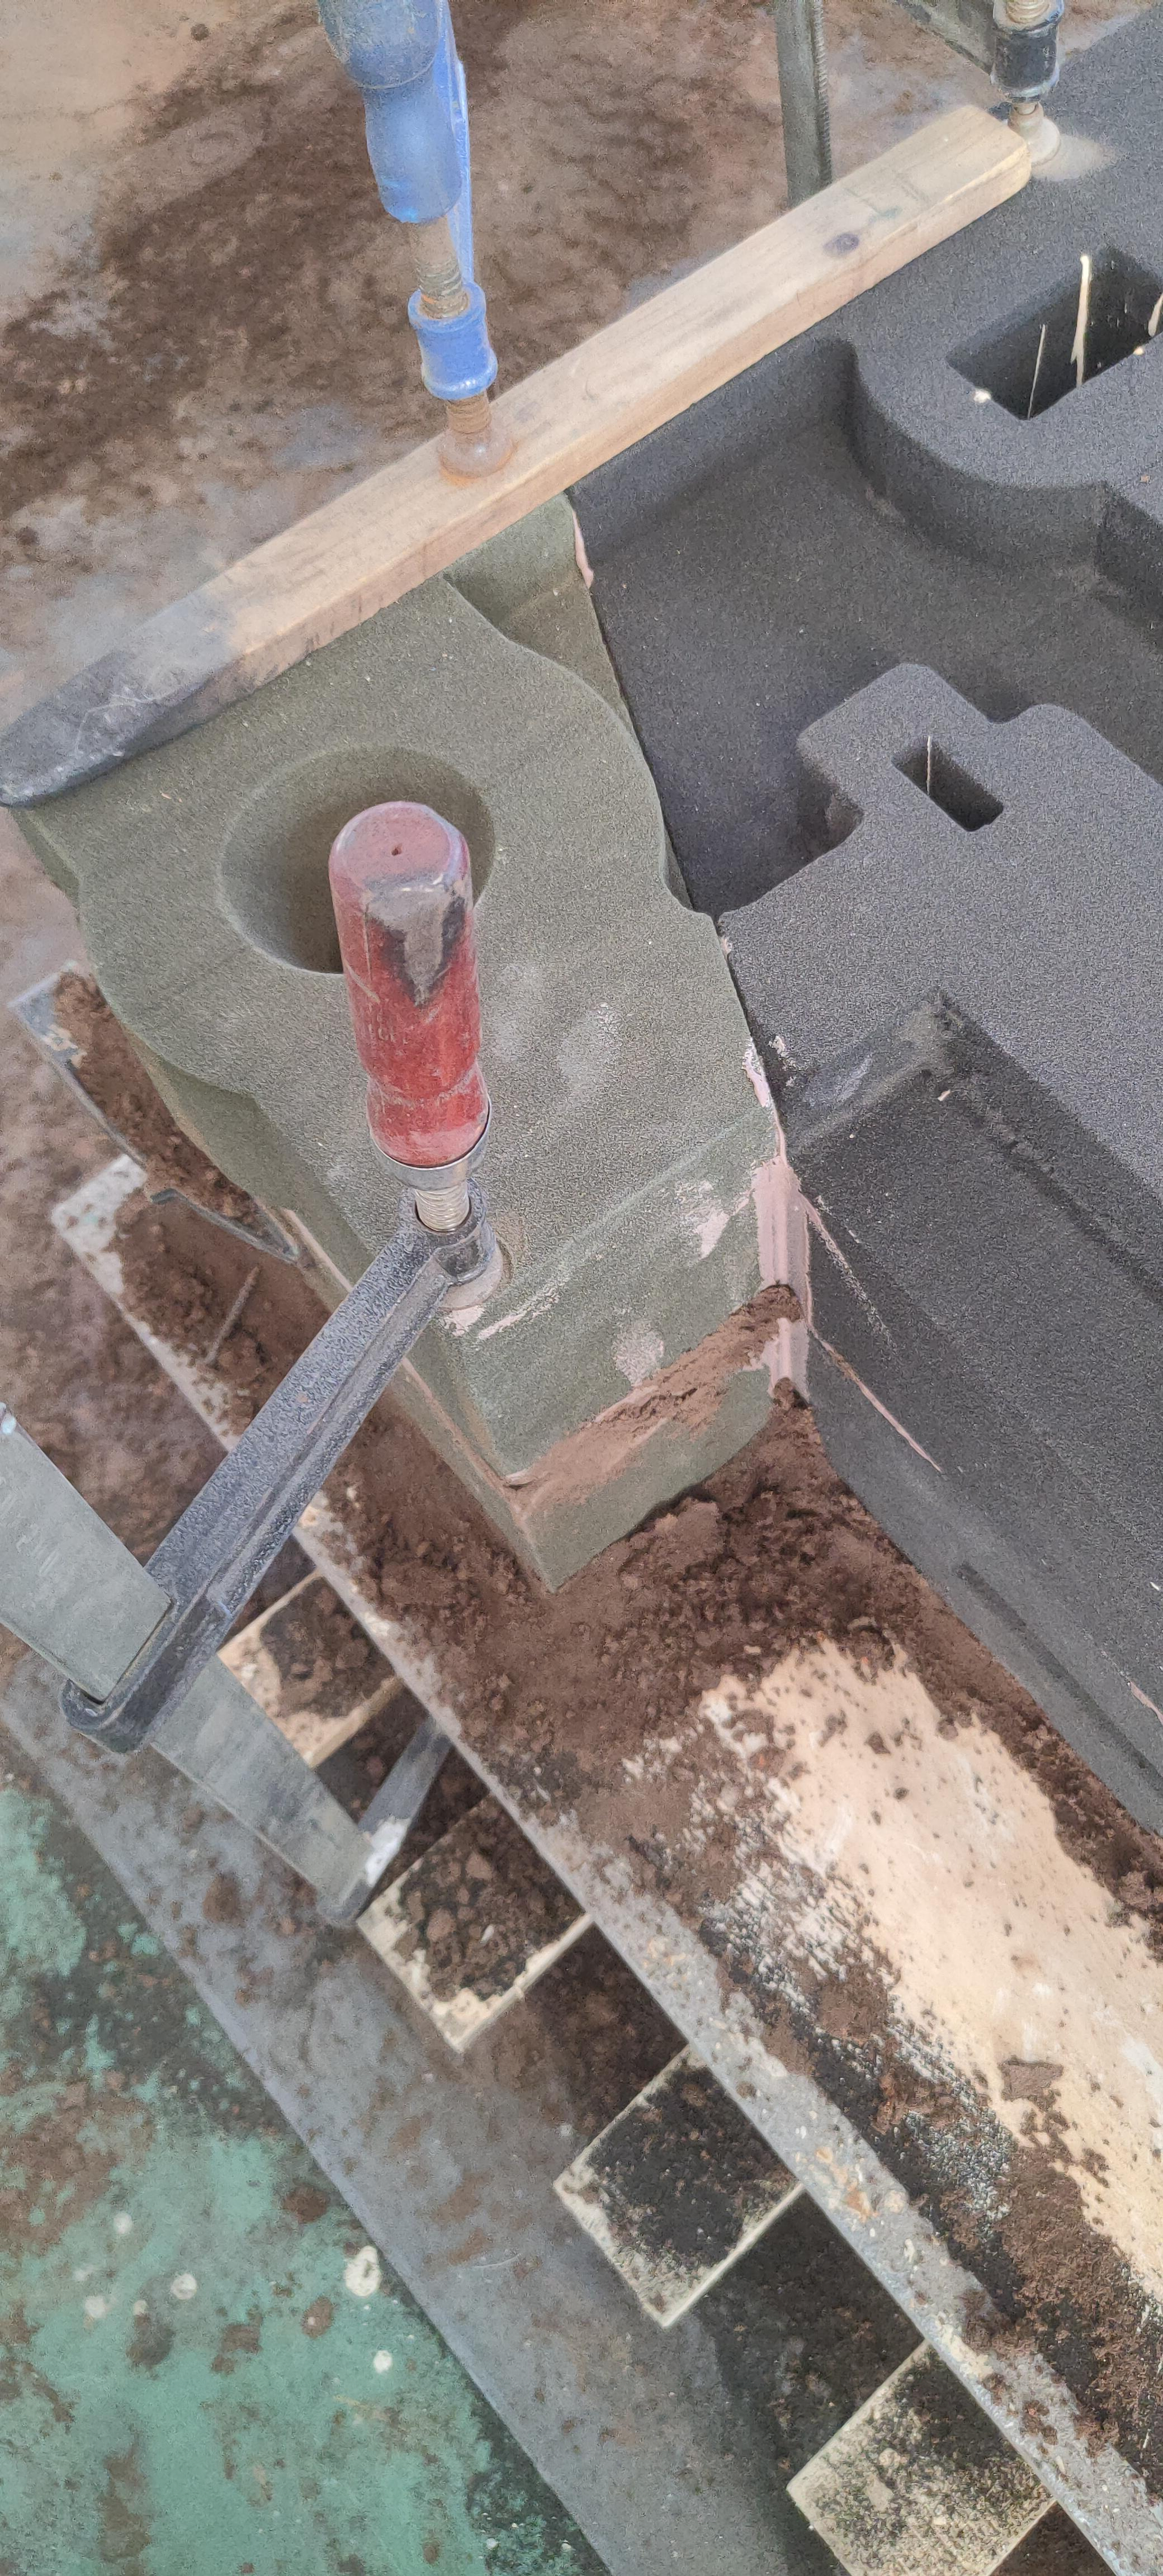pouring hole: (217, 743, 494, 973)
